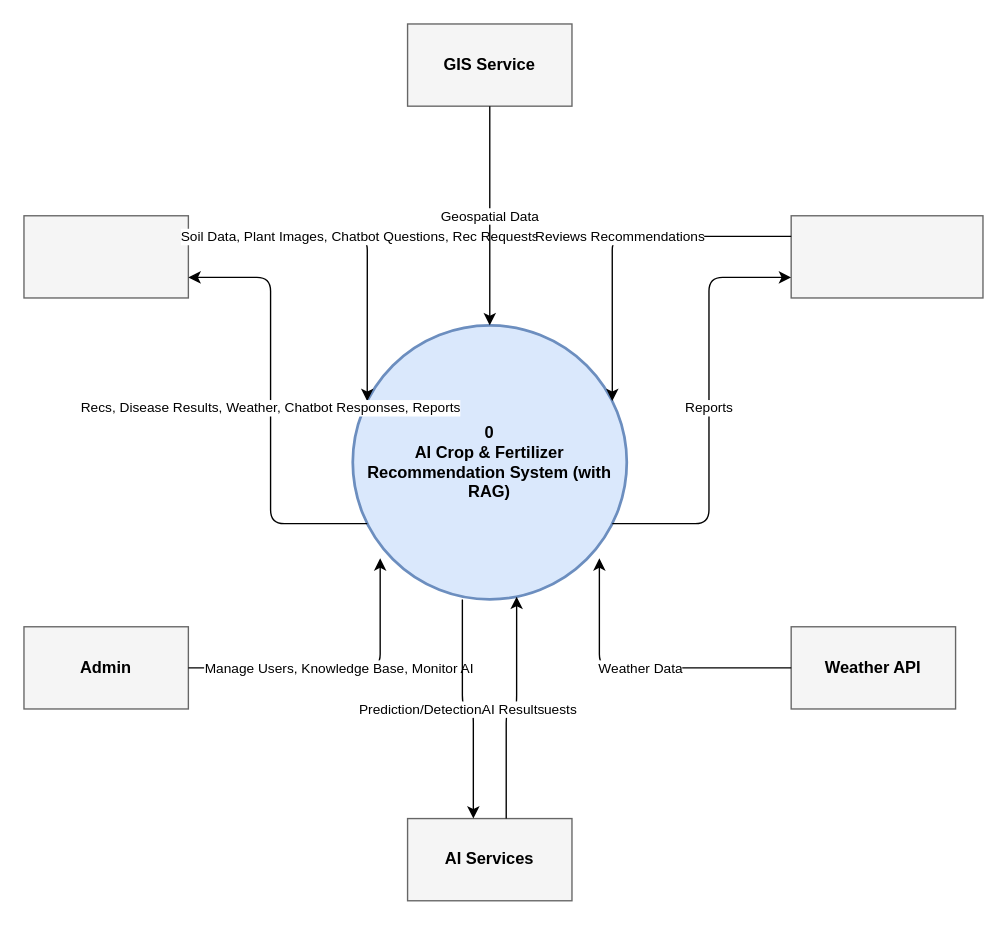
Some shapes in this 1007 by 925 pixel diagram are drawn without their labels. The shapes that lost their labels are listed below. From the top down, each one's centre as x and y in pixels, then its label:
point (105, 256): Farmer
point (886, 256): Agricultural Consultant
